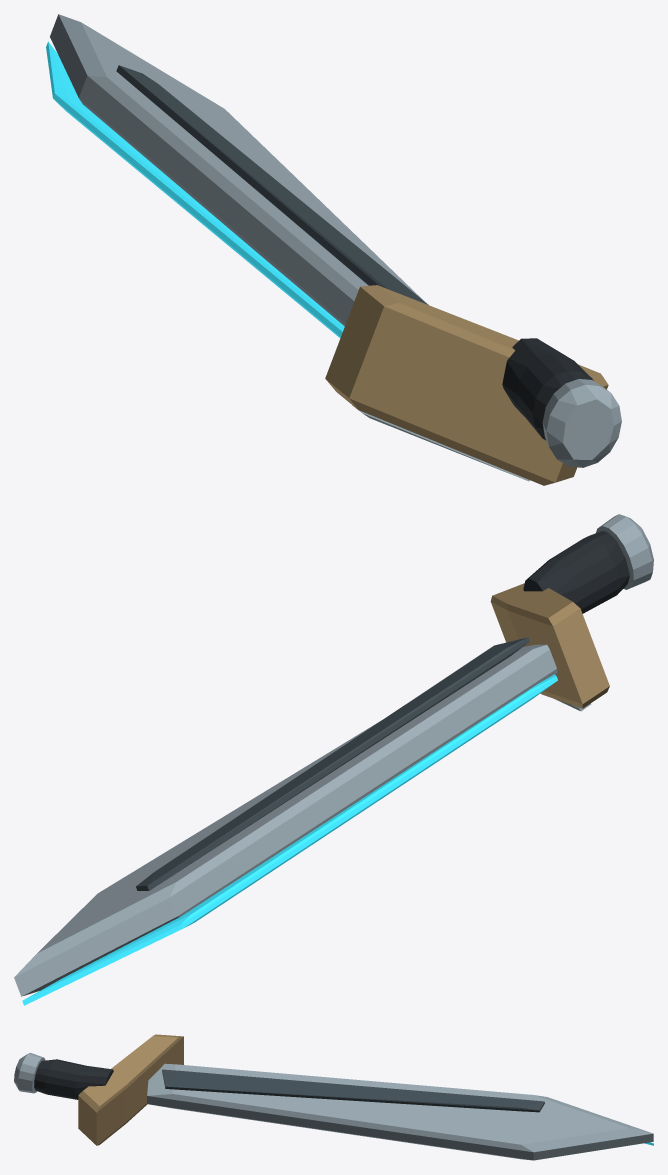
File: weapon-medium.glb
The picture shows the model from 3 angles, top to bottom: view 1: azimuth 30°, elevation 25°; view 2: azimuth 150°, elevation 25°; view 3: azimuth 270°, elevation 25°; orthographic projection. The views are drawn at different scales.
Parts seen in each view (by area): view 1: CW_Relic_weapon; view 2: CW_Relic_weapon; view 3: CW_Relic_weapon.
Boxes of the visible parts, left/top/right/bottom form: CW_Relic_weapon: left=46, top=14, right=621, bottom=485; CW_Relic_weapon: left=14, top=514, right=653, bottom=1005; CW_Relic_weapon: left=14, top=1034, right=653, bottom=1160.
Bounding box in the file's own units: 0.2068 × 0.1324 × 0.9291.
